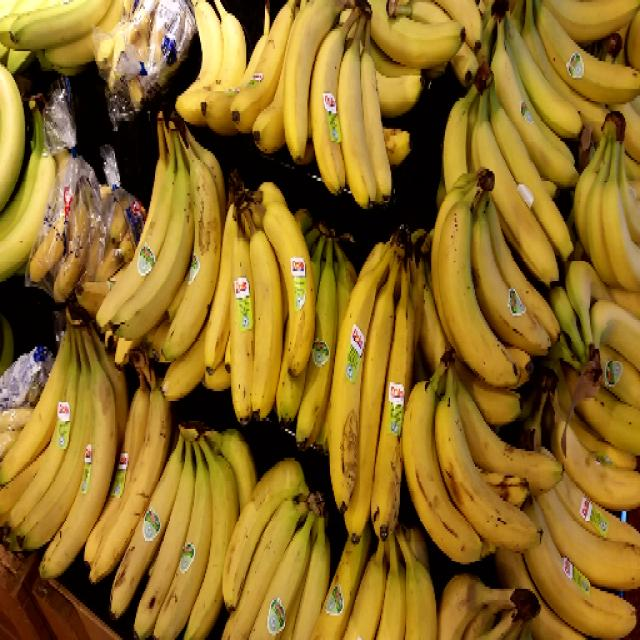banana: (440, 0, 640, 293), (171, 0, 415, 209), (90, 99, 230, 406), (323, 211, 434, 564), (403, 338, 569, 572), (112, 349, 244, 640), (421, 153, 573, 398), (0, 302, 119, 610), (199, 173, 322, 440), (219, 450, 337, 640)
